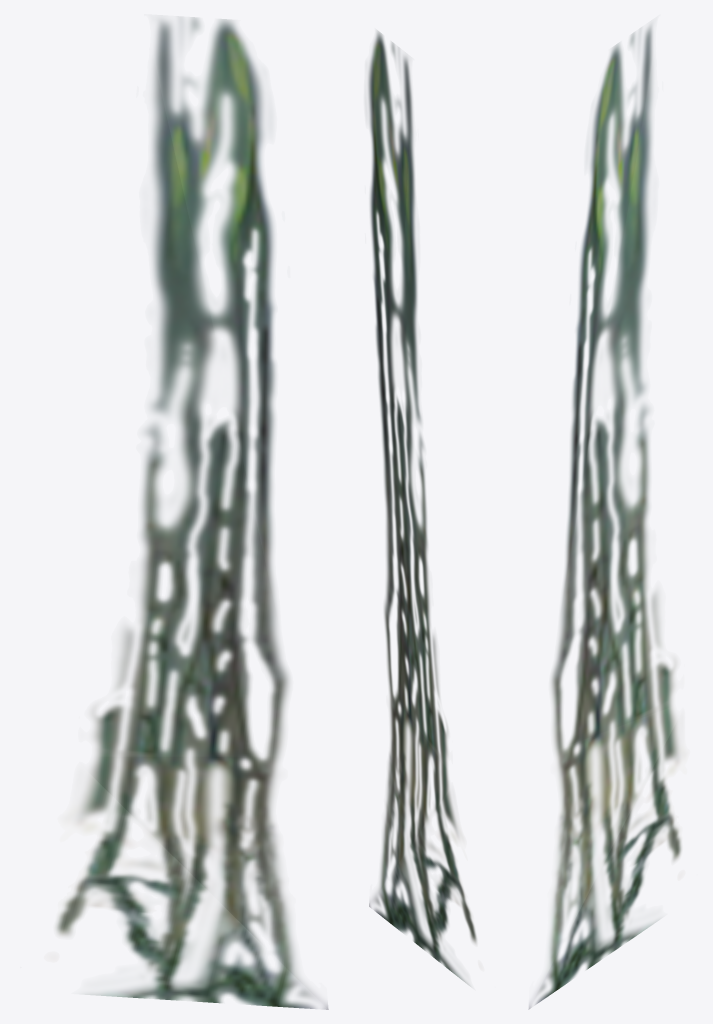
The model's file is BaseWires_1.gltf.
The picture shows the model from 3 angles, left to right: view 1: azimuth 30°, elevation 25°; view 2: azimuth 150°, elevation 25°; view 3: azimuth 270°, elevation 25°; orthographic projection. The views are drawn at different scales.
Visible parts, largest first — view 1: BaseWires_1; view 2: BaseWires_1; view 3: BaseWires_1.
Boxes of the visible parts, x1,y1,x2,y2 form: BaseWires_1: [55, 17, 328, 1009]; BaseWires_1: [368, 31, 476, 986]; BaseWires_1: [528, 24, 681, 1009].
Bounding box in the file's own units: 3.66 × 15.07 × 2.47.
Materials: 1 (1 with a texture image).
